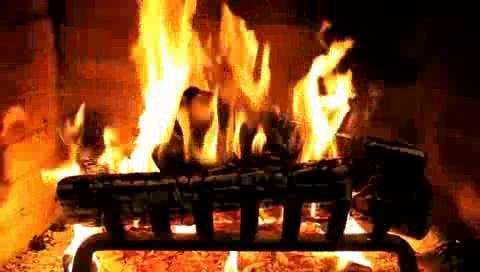fire: (127, 8, 371, 176), (62, 230, 99, 262), (43, 158, 81, 184), (222, 250, 237, 272)
